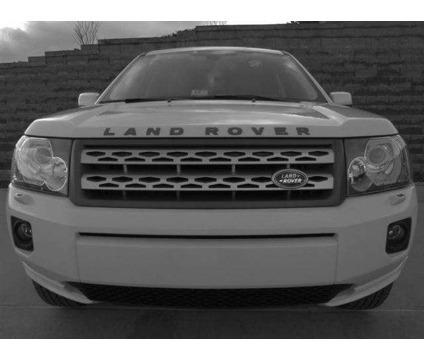car: (9, 48, 417, 314)
